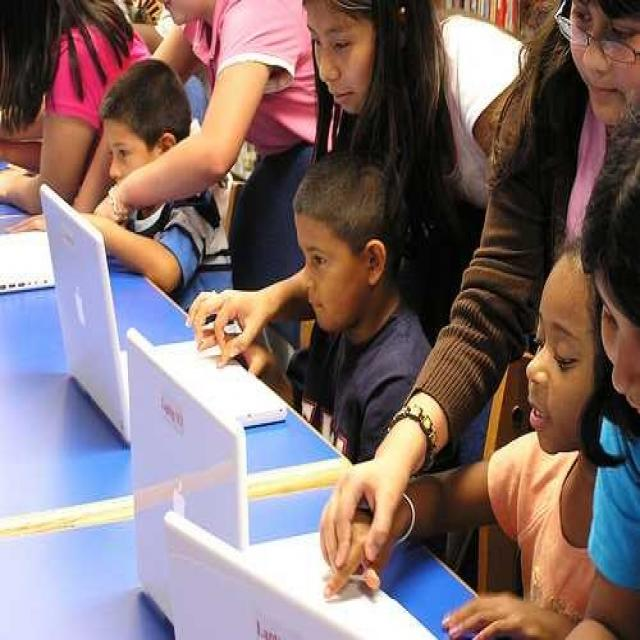laptop: (105, 337, 457, 640), (28, 190, 281, 414)
